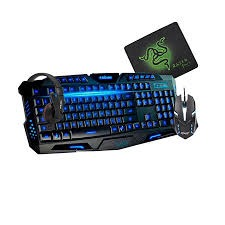keyboard: (23, 72, 174, 155)
mouse: (175, 89, 201, 139)
